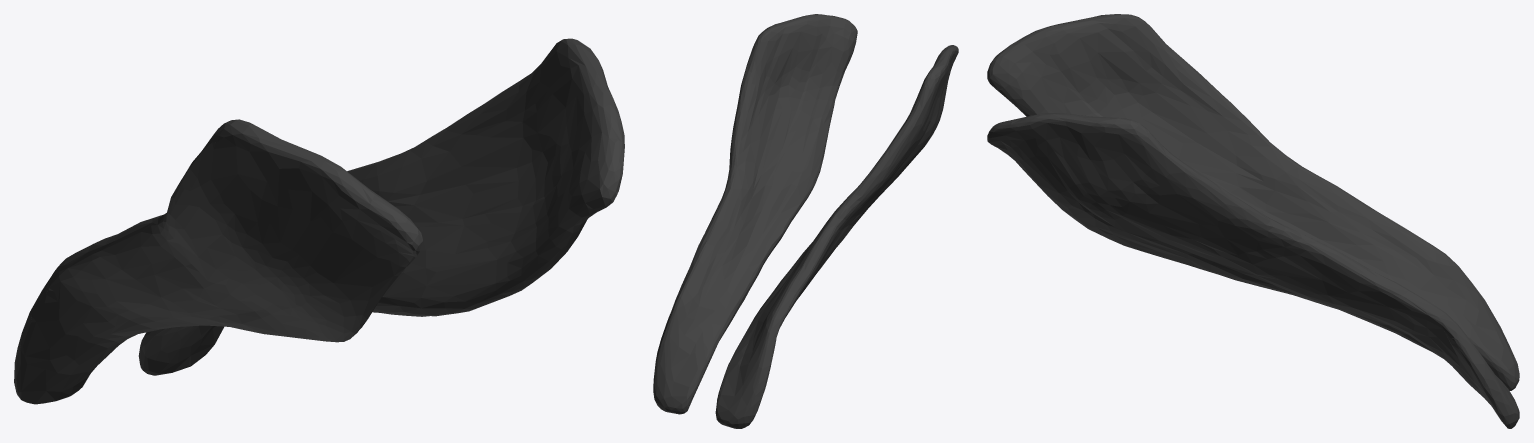
Rendered from m_levator_nasolabialis.glb.
3 views of the same model, side by side, from view 1: azimuth 30°, elevation 25°; view 2: azimuth 150°, elevation 25°; view 3: azimuth 270°, elevation 25° (orthographic). The views are drawn at different scales.
Visible parts, largest first — view 1: m_levator_nasolabialis; view 2: m_levator_nasolabialis; view 3: m_levator_nasolabialis.
Boxes of the visible parts, box(x1,y1,x2,y2) form: m_levator_nasolabialis: box(14, 38, 624, 404); m_levator_nasolabialis: box(653, 14, 958, 428); m_levator_nasolabialis: box(987, 14, 1519, 428).
Bounding box in the file's own units: 0.00129 × 0.00179 × 0.00254.
Materials: 1 (1 with a texture image).
